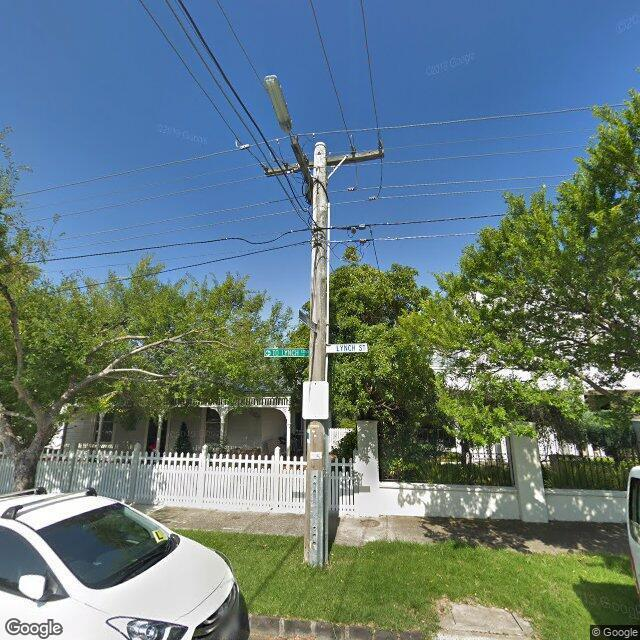crossarm: (265, 149, 384, 177), (292, 142, 313, 194)
streetlight: (265, 74, 294, 142)
timber-pole: (304, 143, 329, 567)
